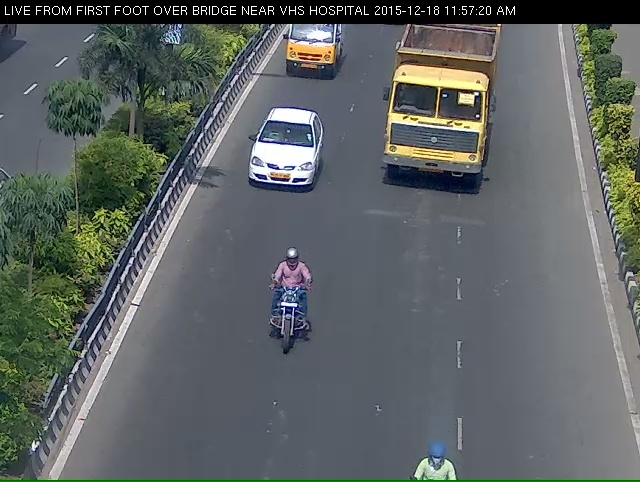Auto: (276, 21, 342, 85)
Bus: (392, 22, 488, 202)
Car: (233, 117, 322, 216)
Person: (267, 278, 312, 389)
